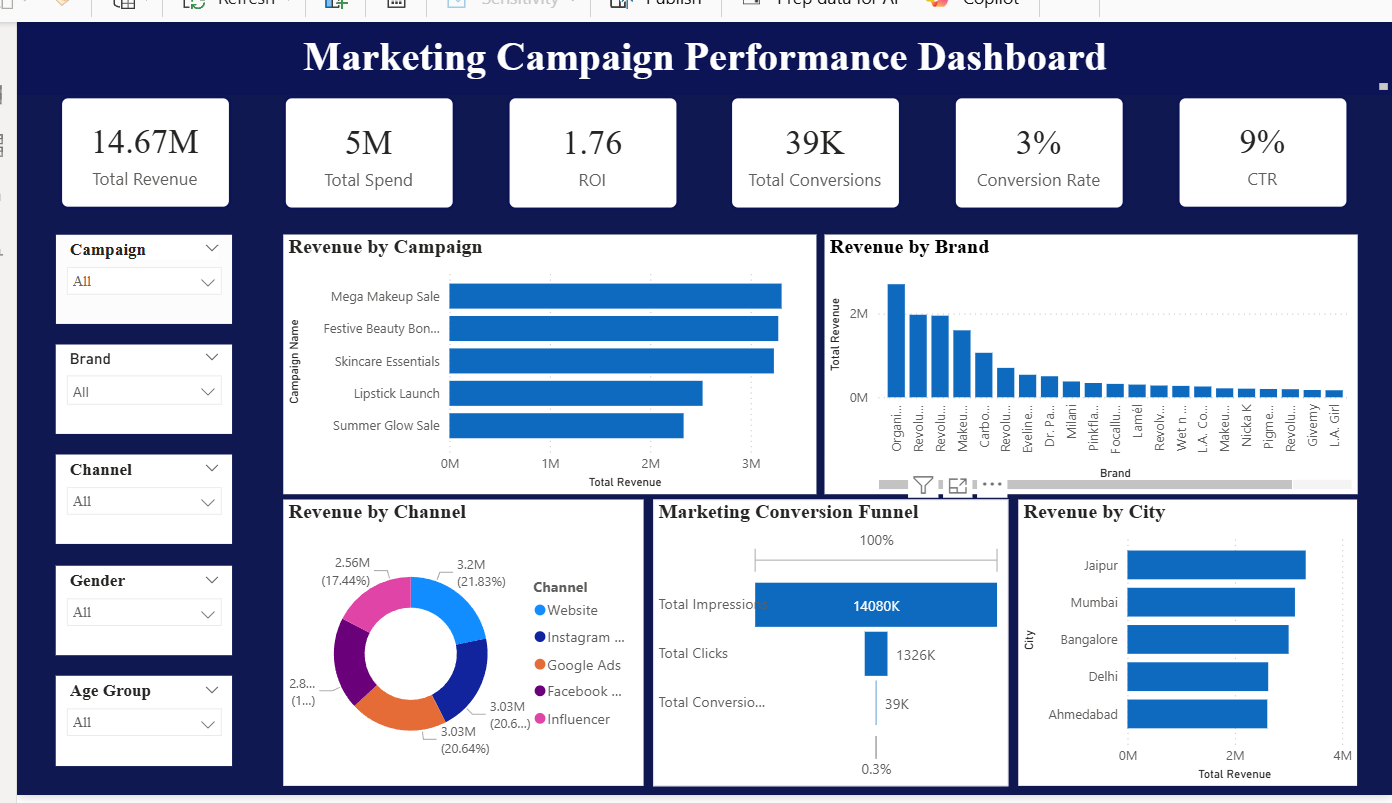

The page's visual inventory and layout, read from the dashboard file:
{"tool":"powerbi","page":{"name":"Page 1","canvas":[1280,720],"ordinal":0},"visuals":[{"type":"card","fields":{"Values":["hok_makeup_dataset.Total Revenue"]},"box":[40,68.3,160,105.6],"z":0},{"type":"card","fields":{"Values":["hok_makeup_dataset.Total Conversions"]},"box":[663.1,68.3,160,106.7],"z":1000},{"type":"card","fields":{"Values":["hok_makeup_dataset.CTR"]},"box":[1078.6,68.3,160,105.7],"z":2000},{"type":"card","fields":{"Values":["hok_makeup_dataset.Conversion Rate"]},"box":[870.9,68.3,160,106.7],"z":3000},{"type":"clusteredBarChart","title":"Revenue by Campaign","fields":{"Category":["hok_makeup_dataset.Campaign Name"],"Y":["hok_makeup_dataset.Total Revenue"]},"box":[247.1,197.1,495.7,241.4],"z":4000},{"type":"columnChart","title":"Revenue by Brand","fields":{"Category":["hok_makeup_dataset.Brand"],"Y":["hok_makeup_dataset.Total Revenue"]},"box":[751.4,197.1,495.7,241.4],"z":5000},{"type":"clusteredBarChart","title":"Revenue by City","fields":{"Category":["hok_makeup_dataset.City"],"Y":["hok_makeup_dataset.Total Revenue"]},"box":[931.1,444.4,315.6,266.7],"z":6000},{"type":"funnel","title":"Marketing Conversion Funnel","fields":{"Y":["hok_makeup_dataset.Total Impressions","hok_makeup_dataset.Total Clicks","hok_makeup_dataset.Total Conversions"]},"box":[592.2,444.4,330,266.7],"z":7000},{"type":"card","fields":{"Values":["hok_makeup_dataset.Total Spend"]},"box":[247.7,68.3,160,106.7],"z":8000},{"type":"FlowVisual_C29F1DCC_81F5_4973_94AD_0517D44CC06A","box":[357.1,678.6,12.9,14.3],"z":9000},{"type":"card","fields":{"Values":["hok_makeup_dataset.ROI"]},"box":[455.4,68.3,160,106.7],"z":10000},{"type":"actionButton","box":[0,0,100,40],"z":11000},{"type":"donutChart","title":"Revenue by Channel","fields":{"Category":["hok_makeup_dataset.Channel"],"Y":["hok_makeup_dataset.Total Revenue"]},"box":[247.8,444.4,335.6,266.7],"z":12000},{"type":"slicer","fields":{"Values":["hok_makeup_dataset.Campaign Name"]},"box":[35.7,197.1,164.3,82.9],"z":13000},{"type":"slicer","fields":{"Values":["hok_makeup_dataset.Channel"]},"box":[35.7,402.9,164.3,82.9],"z":14000},{"type":"slicer","fields":{"Values":["hok_makeup_dataset.Gender"]},"box":[35.7,505.7,164.3,82.9],"z":15000},{"type":"slicer","fields":{"Values":["hok_makeup_dataset.Brand"]},"box":[35.7,300,164.3,82.9],"z":16000},{"type":"textbox","title":"Marketing Campaign Performance Dashboard","box":[0,0,1280.3,68.3],"z":17000},{"type":"slicer","fields":{"Values":["hok_makeup_dataset.Age Group"]},"box":[35.7,608.6,164.3,84.3],"z":18000}]}

Visuals, with their boxes in screenshot pixels (x1, y1, x2, y2):
card - hok_makeup_dataset.Total Revenue: bbox=[57, 95, 229, 208]
card - hok_makeup_dataset.Total Conversions: bbox=[726, 95, 897, 209]
card - hok_makeup_dataset.CTR: bbox=[1171, 95, 1343, 208]
card - hok_makeup_dataset.Conversion Rate: bbox=[949, 95, 1120, 209]
"Revenue by Campaign" clusteredBarChart: bbox=[280, 233, 811, 492]
"Revenue by Brand" columnChart: bbox=[820, 233, 1352, 492]
"Revenue by City" clusteredBarChart: bbox=[1013, 498, 1352, 784]
"Marketing Conversion Funnel" funnel: bbox=[650, 498, 1004, 784]
card - hok_makeup_dataset.Total Spend: bbox=[280, 95, 452, 209]
FlowVisual_C29F1DCC_81F5_4973_94AD_0517D44CC06A: bbox=[397, 750, 411, 765]
card - hok_makeup_dataset.ROI: bbox=[503, 95, 674, 209]
actionButton: bbox=[14, 22, 122, 65]
"Revenue by Channel" donutChart: bbox=[280, 498, 640, 784]
slicer - hok_makeup_dataset.Campaign Name: bbox=[53, 233, 229, 322]
slicer - hok_makeup_dataset.Channel: bbox=[53, 454, 229, 543]
slicer - hok_makeup_dataset.Gender: bbox=[53, 564, 229, 653]
slicer - hok_makeup_dataset.Brand: bbox=[53, 343, 229, 432]
"Marketing Campaign Performance Dashboard" textbox: bbox=[14, 22, 1388, 95]
slicer - hok_makeup_dataset.Age Group: bbox=[53, 674, 229, 765]
